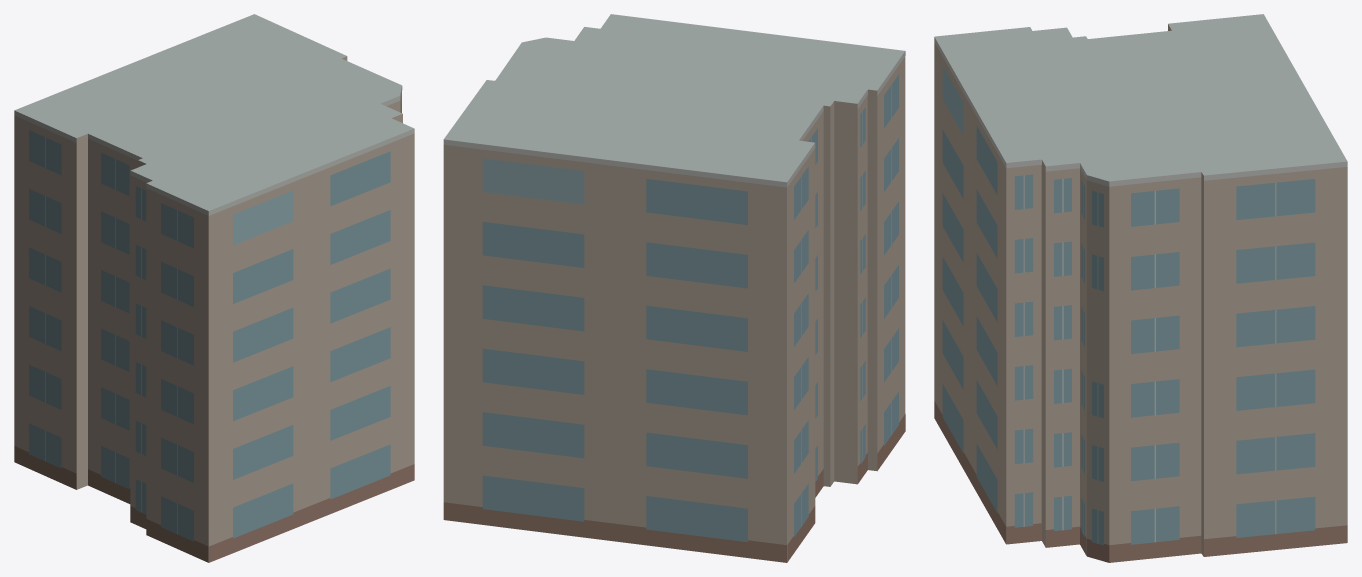
The model's file is survey-upis-33002142.glb.
3 renders of one model, left to right at view 1: azimuth 30°, elevation 25°; view 2: azimuth 150°, elevation 25°; view 3: azimuth 270°, elevation 25°, orthographic. The views are drawn at different scales.
Visible parts, largest first — view 1: survey-upis-33002142.tmp; view 2: survey-upis-33002142.tmp; view 3: survey-upis-33002142.tmp.
Boxes of the visible parts, <box> form: survey-upis-33002142.tmp: <box>14,14,414,562</box>; survey-upis-33002142.tmp: <box>443,14,905,562</box>; survey-upis-33002142.tmp: <box>934,14,1347,562</box>.
Bounding box in the file's own units: 16.77 × 17.8 × 17.5.
